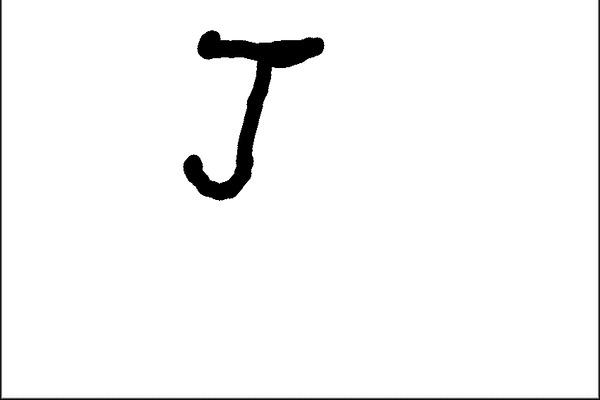J: (168, 24, 329, 200)
